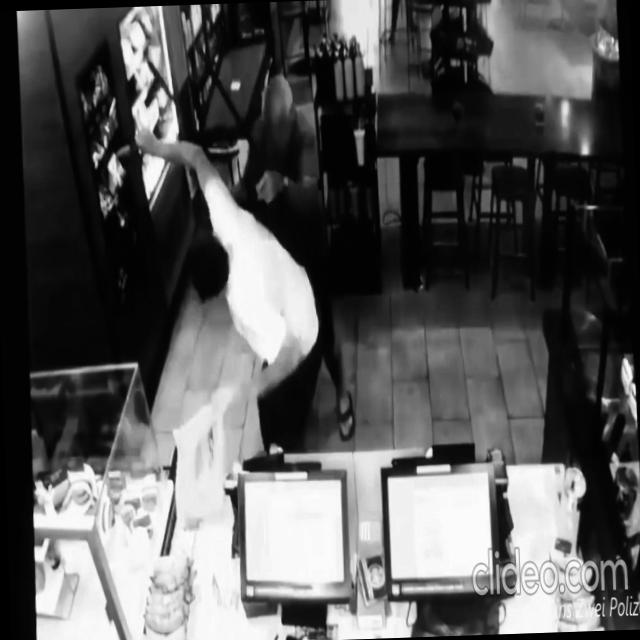gun: (116, 126, 146, 162)
person: (225, 66, 358, 446), (384, 0, 419, 45)
person with a gun: (114, 118, 332, 462)
